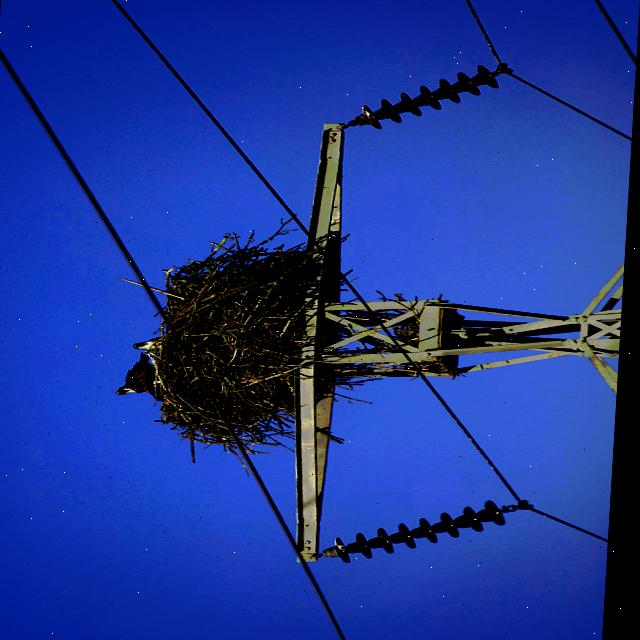obstruction: (163, 229, 309, 454), (121, 326, 239, 452)
poles: (299, 124, 625, 561)
wires: (0, 50, 352, 640), (110, 1, 318, 241), (423, 373, 614, 544), (463, 1, 633, 141), (594, 1, 636, 61)
